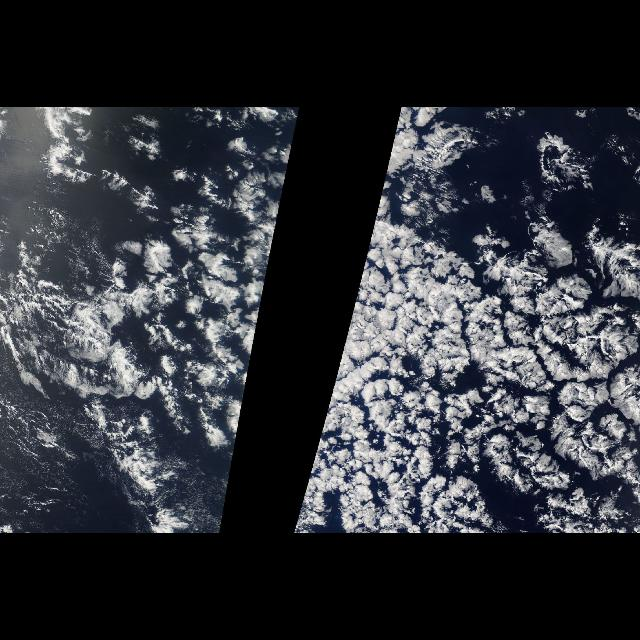Flower: (398, 187, 640, 531), (24, 151, 282, 429)
